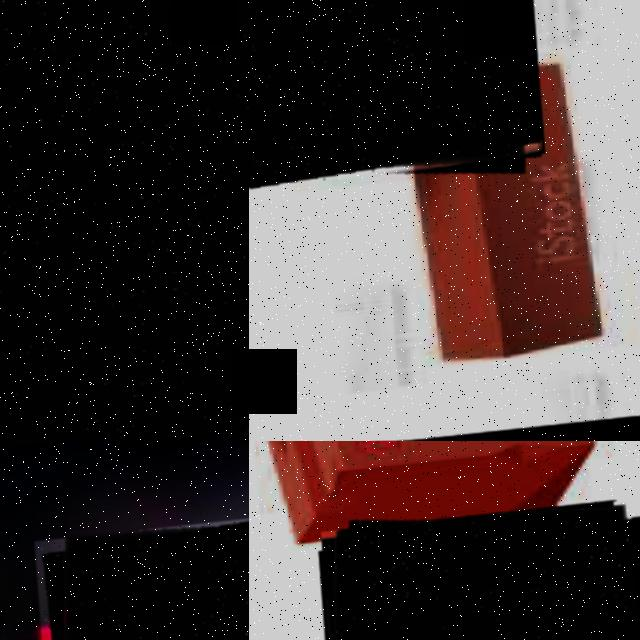Kardus kondisi bagus: (407, 68, 595, 364), (250, 1, 527, 166)
Kardus kondisi rusak: (1, 1, 250, 424), (340, 513, 635, 640), (266, 442, 600, 546), (71, 529, 250, 640)
